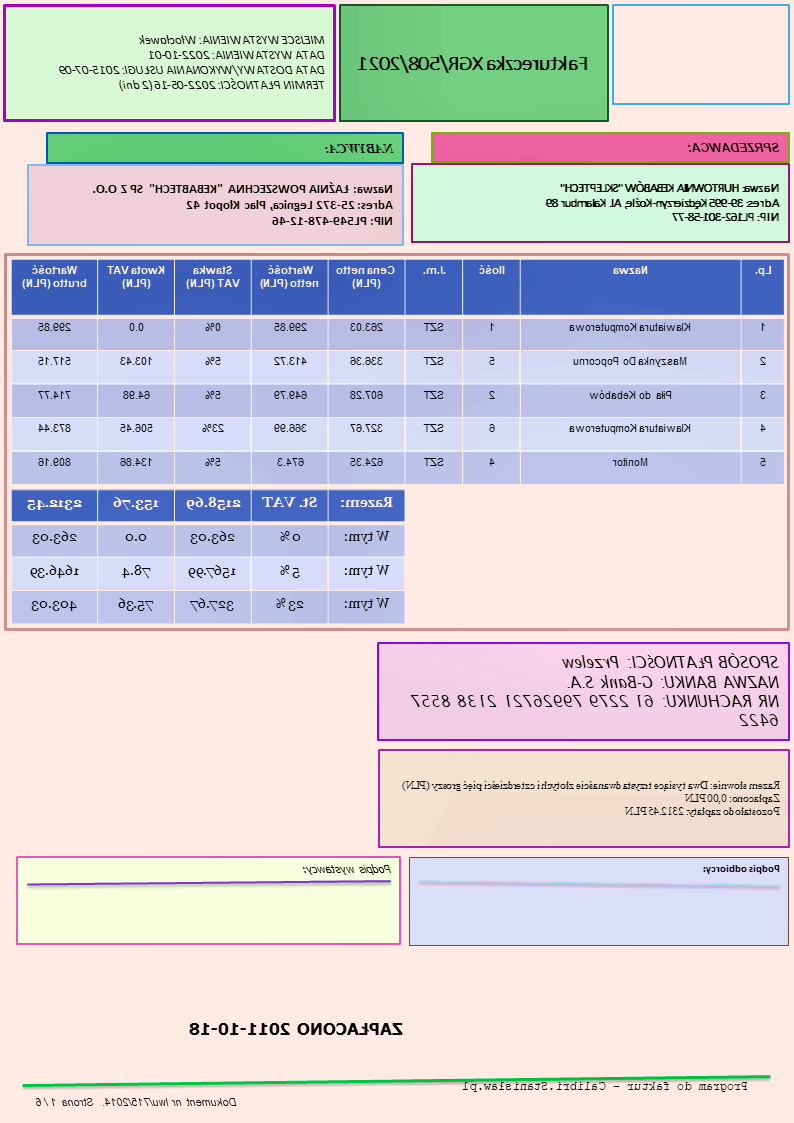Table: (12, 257, 787, 485), (13, 486, 408, 626)
TextBox: (405, 649, 783, 735), (396, 776, 786, 824), (55, 30, 331, 97), (87, 177, 397, 233), (540, 178, 786, 227), (357, 49, 595, 78), (184, 1014, 411, 1042), (459, 1076, 752, 1096), (31, 1090, 242, 1112), (301, 857, 396, 883), (686, 137, 786, 158), (700, 859, 787, 880), (325, 137, 399, 157)
